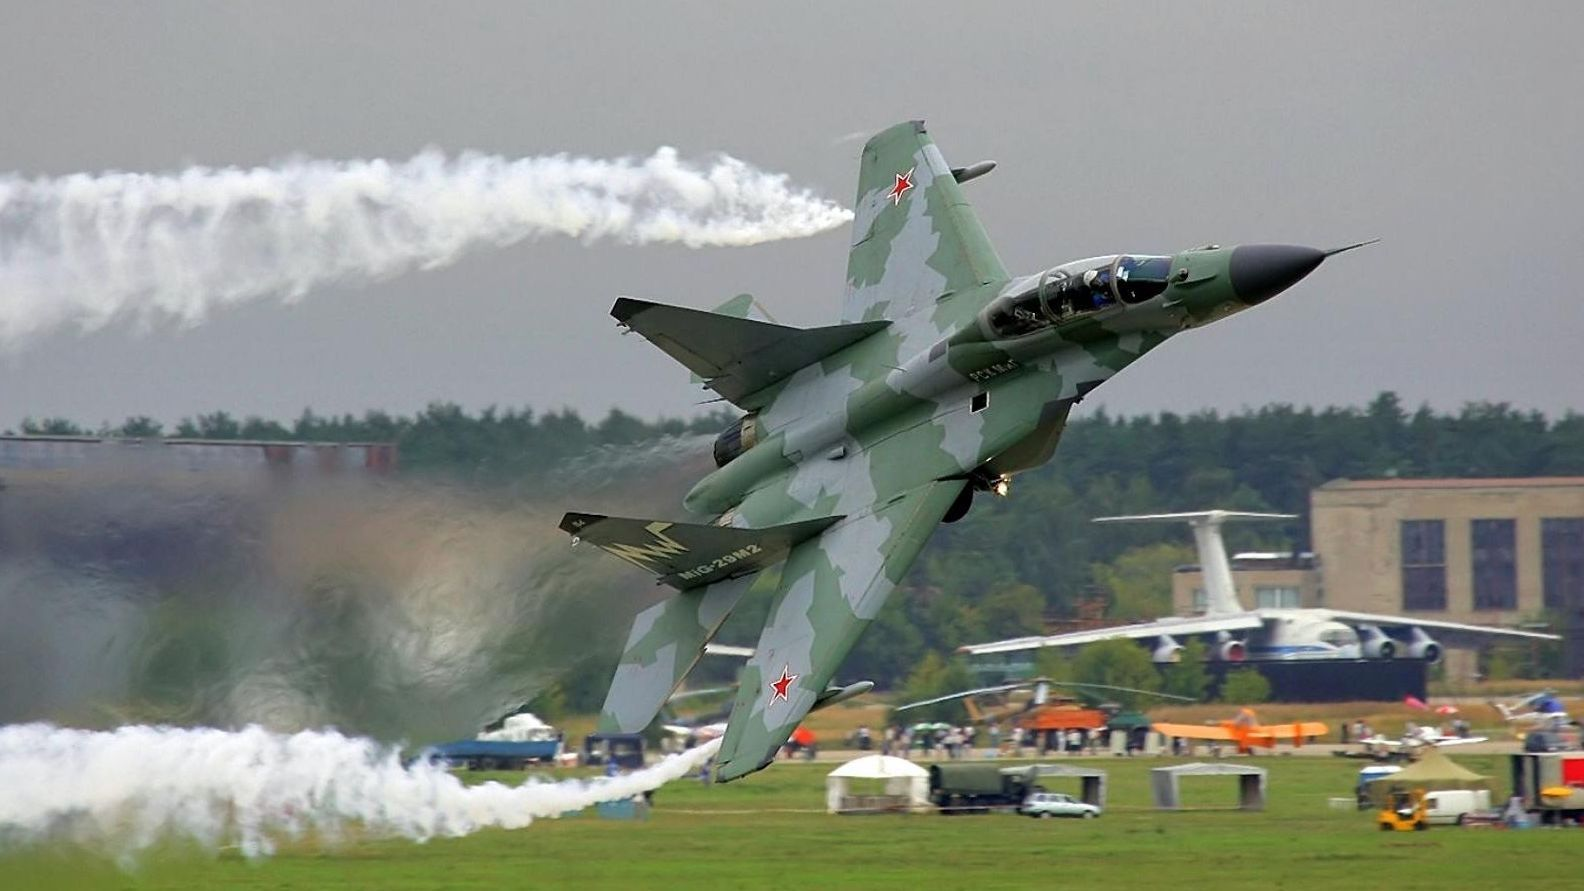Aeronef_militaire: (539, 108, 1395, 780), (952, 498, 1570, 723)
